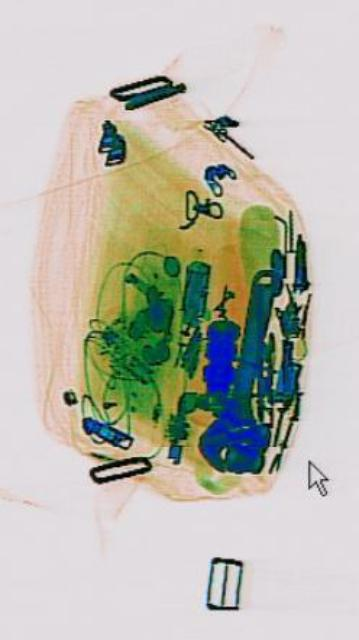Wrench: (193, 248, 296, 488)
